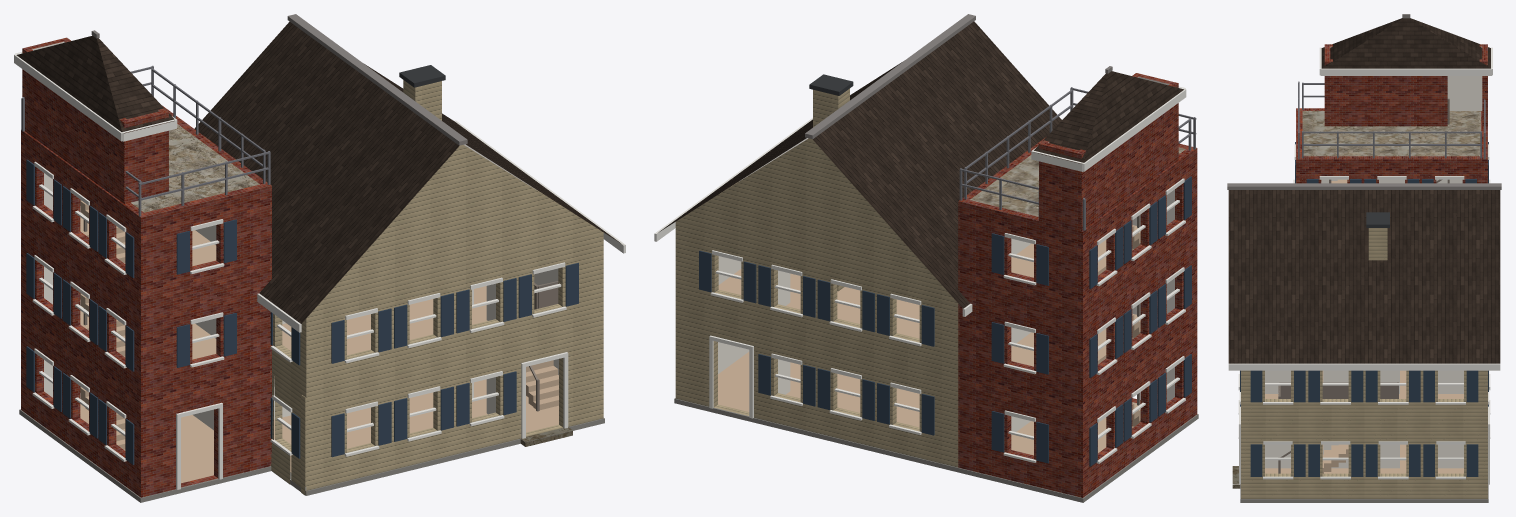
Rendered from ns-cottage-tower.towns-v2.lod0.glb.
The picture shows the model from 3 angles, left to right: view 1: azimuth 30°, elevation 25°; view 2: azimuth 150°, elevation 25°; view 3: azimuth 270°, elevation 25°; orthographic projection. The views are drawn at different scales.
Visible parts, largest first — view 1: ns-cottage-tower; view 2: ns-cottage-tower; view 3: ns-cottage-tower.
Boxes of the visible parts, <box> form: ns-cottage-tower: <box>14,14,625,502</box>; ns-cottage-tower: <box>654,14,1198,502</box>; ns-cottage-tower: <box>1227,14,1501,502</box>.
Bounding box in the file's own units: 15.03 × 13.31 × 10.
Materials: 7 (4 with a texture image).
